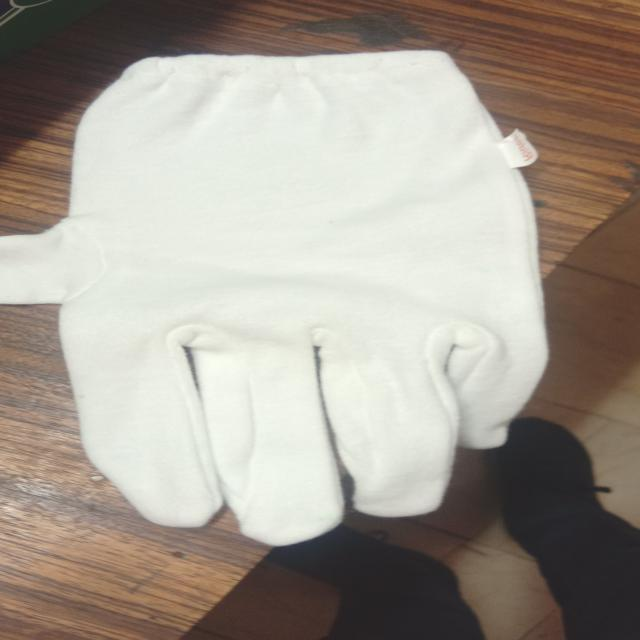glove: (1, 47, 562, 549)
